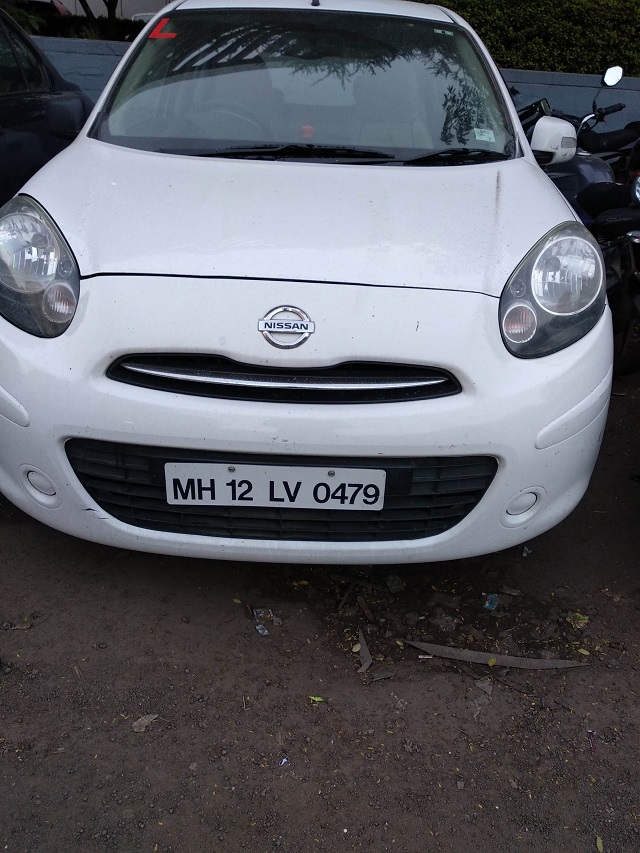licenseplate: (163, 454, 397, 520)
